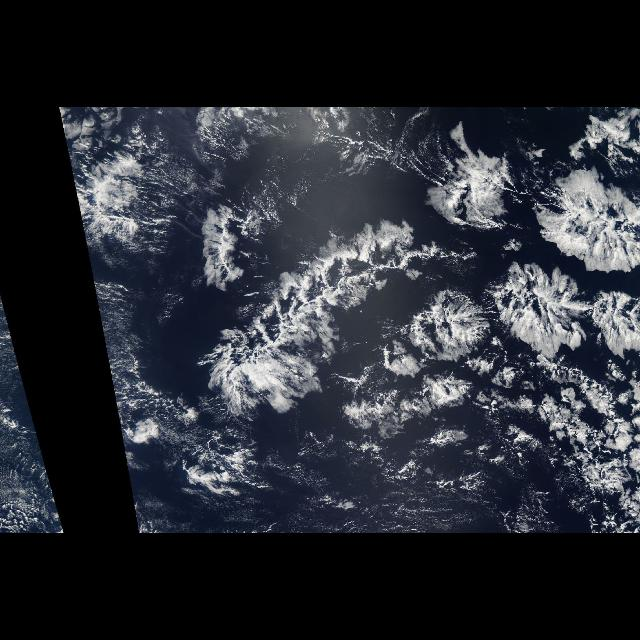Fish: (208, 205, 416, 432)
Flower: (186, 111, 640, 534)
Gravel: (540, 383, 640, 532)
